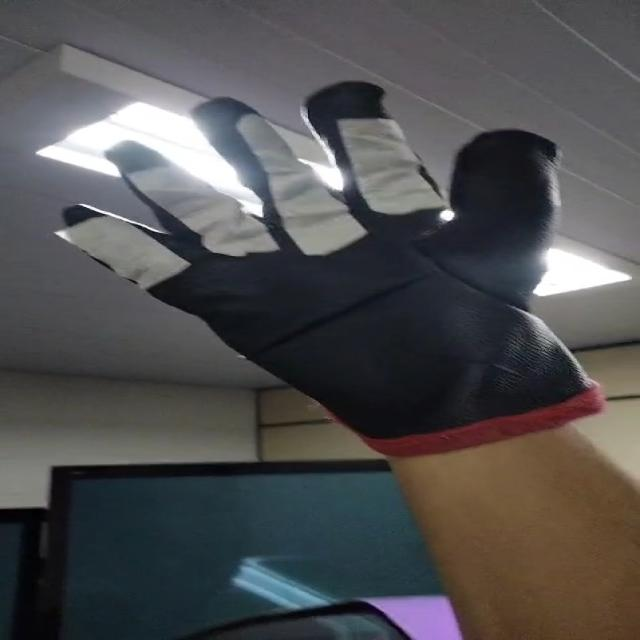Gloves: (50, 79, 626, 450)
